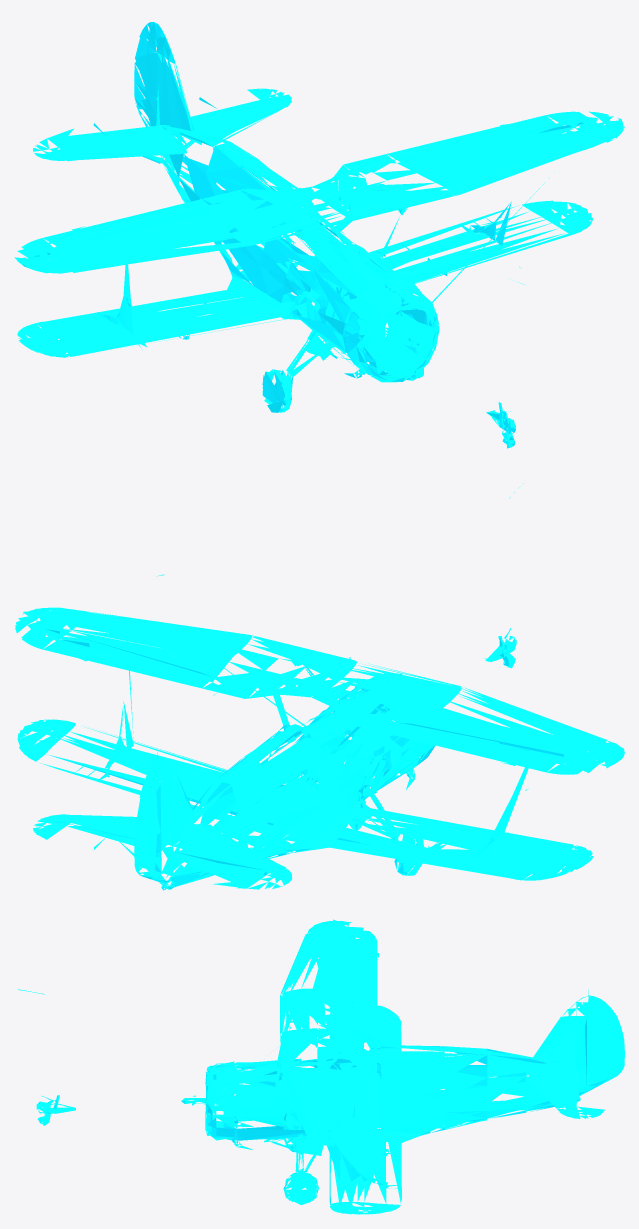
File: PAAD106.glb
3 views of the same model, one above another, from view 1: azimuth 30°, elevation 25°; view 2: azimuth 150°, elevation 25°; view 3: azimuth 270°, elevation 25° (orthographic). The views are drawn at different scales.
Parts seen in each view (by area): view 1: misc; view 2: misc; view 3: misc.
Part boxes in pixels (<box>): misc: <box>14,22,624,448</box>; misc: <box>15,483,624,890</box>; misc: <box>18,919,624,1214</box>.
Bounding box in the file's own units: 0.6886 × 0.2704 × 0.7869.
